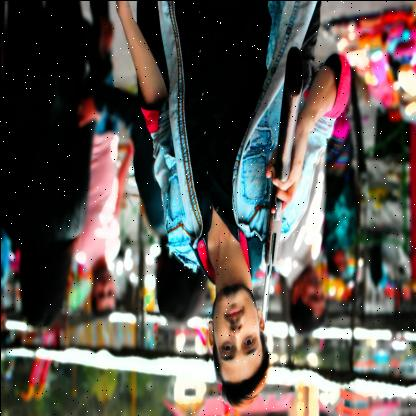rifle: (257, 43, 305, 334)
